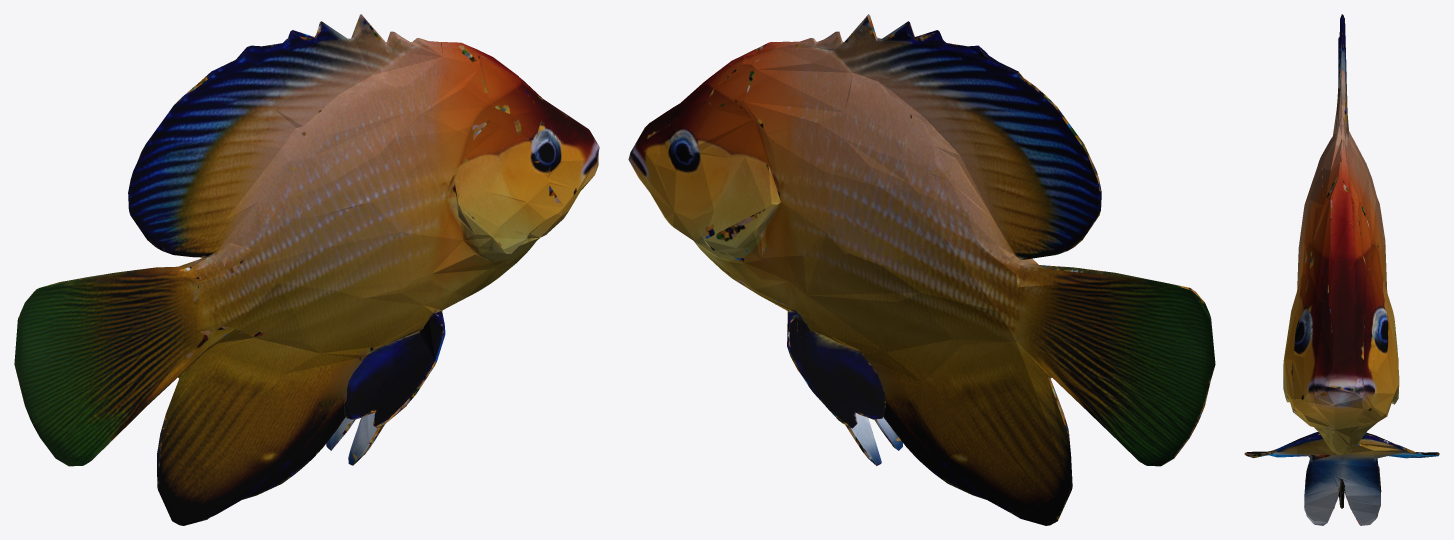
Rendered from fish_0041_smpl23_resized.glb.
The picture shows the model from 3 angles, left to right: view 1: azimuth 30°, elevation 25°; view 2: azimuth 150°, elevation 25°; view 3: azimuth 270°, elevation 25°; orthographic projection. The views are drawn at different scales.
Visible parts, largest first — view 1: world; view 2: world; view 3: world.
Part boxes in pixels (bbox=[...]): world: bbox=[14, 14, 599, 525]; world: bbox=[628, 14, 1215, 525]; world: bbox=[1244, 14, 1439, 525].
Size of the model in its own units: 1.99 by 1.54 by 0.5455.
1 material, 1 textured.
